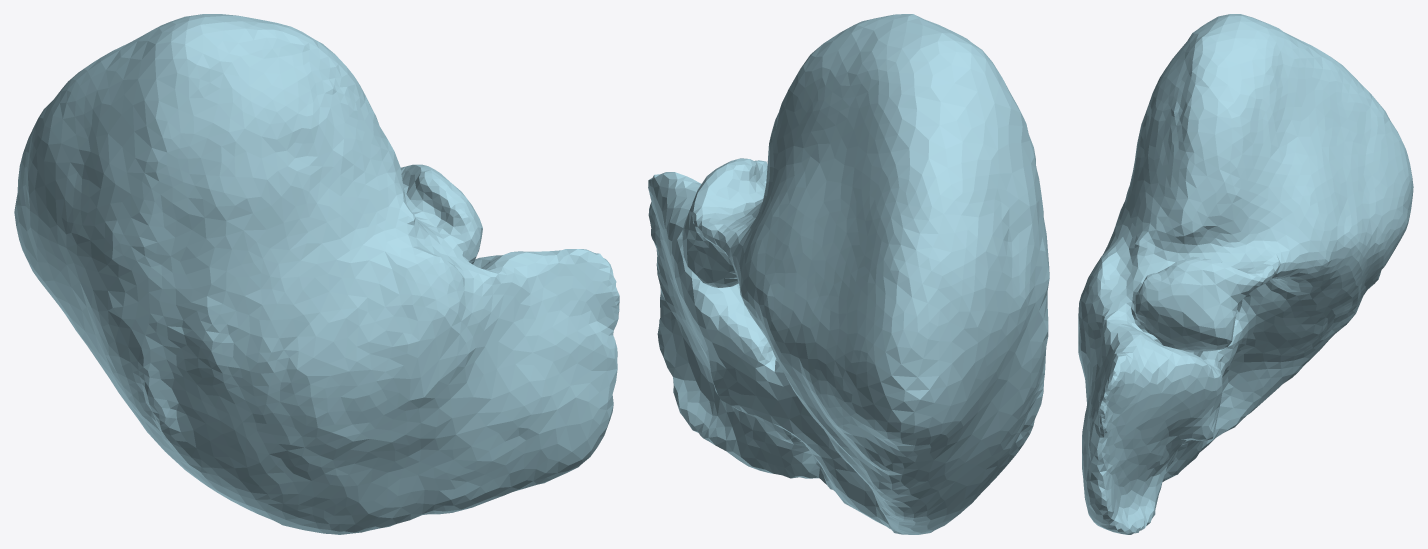
Rendered from liver.obj.
3 views of the same model, side by side, from view 1: azimuth 30°, elevation 25°; view 2: azimuth 150°, elevation 25°; view 3: azimuth 270°, elevation 25° (orthographic). The views are drawn at different scales.
Parts seen in each view (by area): view 1: grp1; view 2: grp1; view 3: grp1.
Boxes of the visible parts, bbox=[...] form: grp1: bbox=[14, 14, 619, 534]; grp1: bbox=[648, 14, 1049, 534]; grp1: bbox=[1078, 14, 1413, 534].
Bounding box in the file's own units: 198 × 211 × 153.
